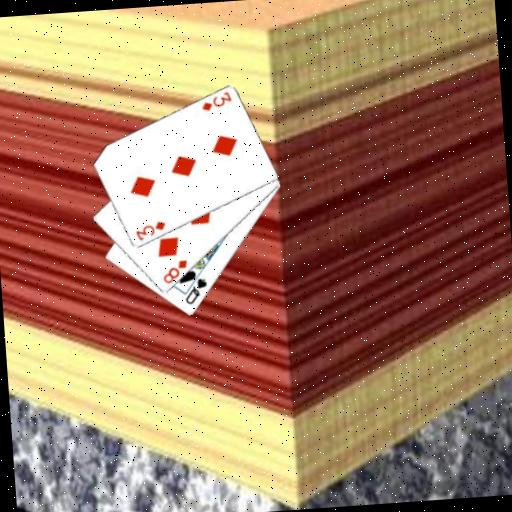3D: (132, 219, 169, 244), (197, 88, 234, 113)
8D: (159, 256, 191, 286)
QS: (181, 275, 211, 307)
